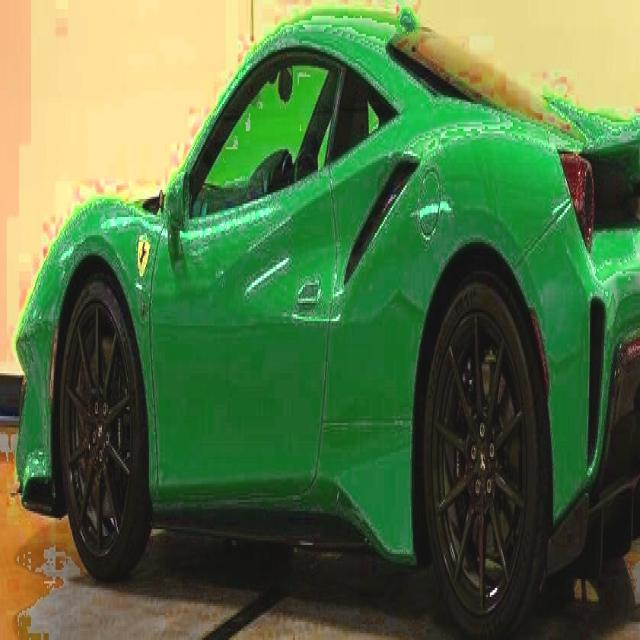green: (14, 10, 640, 625)
